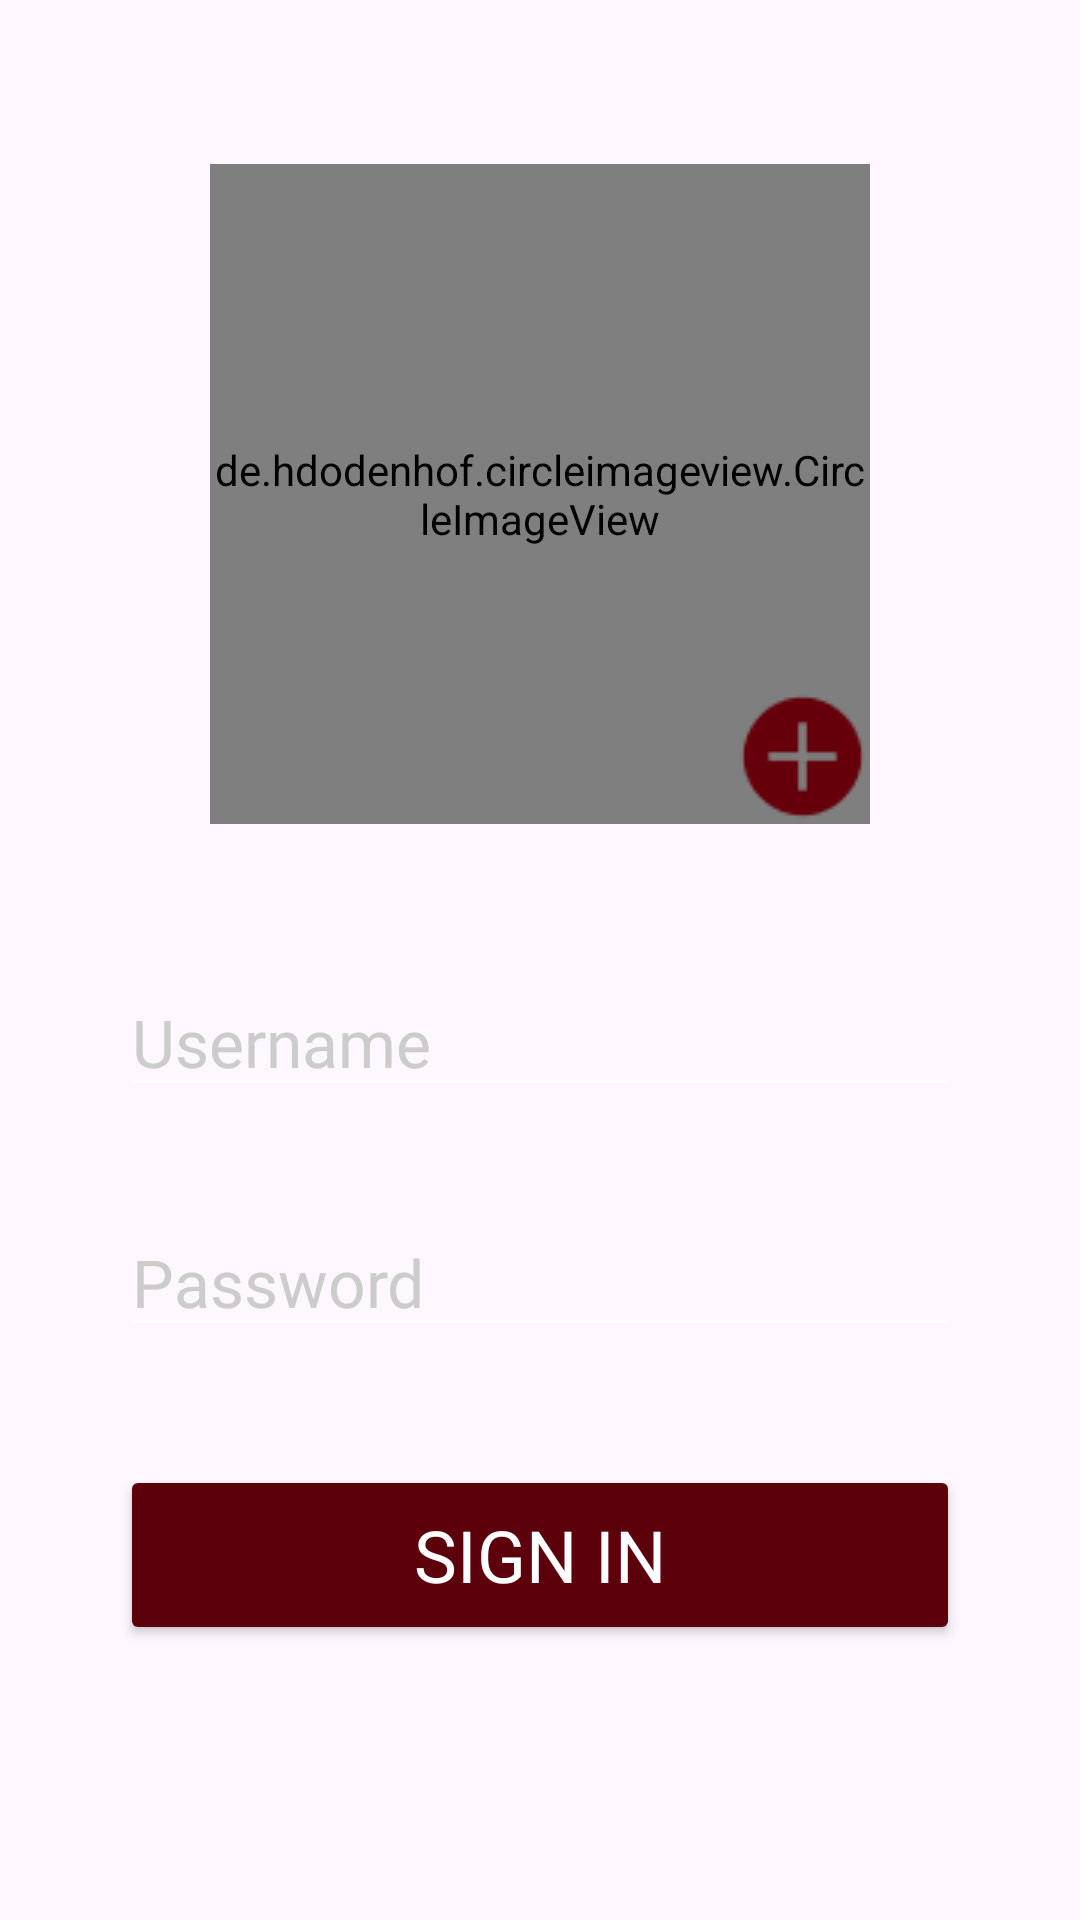

Icons on this 1080w x 1920h Android screen, each with its box as (x1, y1, x2, y2):
add: (743, 697, 862, 816)
